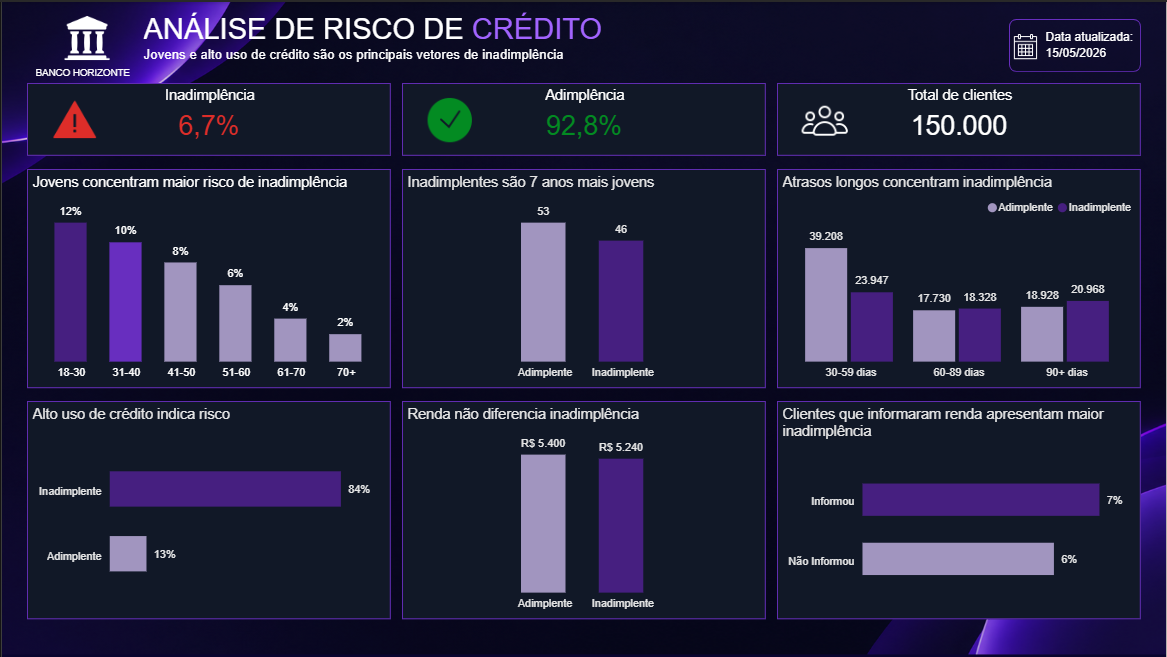

The dashboard page shown, as its layout file describes it:
{"tool":"powerbi","page":{"name":"Página 1","canvas":[1280,720],"ordinal":0},"visuals":[{"type":"image","box":[23.1,12.1,141.2,55.2],"z":0,"group":"g1"},{"type":"shape","box":[1107.4,18.7,145.2,58.3],"z":0},{"type":"textbox","box":[31.9,63.1,134.9,28.8],"z":1000,"group":"g1"},{"type":"clusteredBarChart","title":"Alto uso de crédito indica risco","fields":{"Category":["banco_horizonte_limpo.Status_Pagamento"],"Y":["Median(banco_horizonte_limpo.RevolvingUtilizationOfUnsecuredLines)"]},"box":[27.5,438.8,400,240],"z":1000},{"type":"clusteredBarChart","title":"Clientes que informaram renda apresentam maior inadimplência","fields":{"Category":["banco_horizonte_limpo.Renda_Informada"],"Y":["banco_horizonte_limpo.Taxa Inadimplência %"]},"box":[852.2,438.8,400,240],"z":2000},{"type":"clusteredColumnChart","title":"Atrasos longos concentram inadimplência","fields":{"Category":["Atrasos_Detalhado.Tipo_Atraso"],"Series":["Atrasos_Detalhado.Status"],"Y":["Sum(Atrasos_Detalhado.Qtd_Atraso)"]},"box":[852.2,183.6,400.3,240.8],"z":3000},{"type":"clusteredColumnChart","title":"Renda não diferencia inadimplência","fields":{"Category":["banco_horizonte_limpo.Status_Pagamento"],"Y":["Median(banco_horizonte_limpo.MonthlyIncome)"]},"box":[439.9,438.8,400.3,239.7],"z":4000},{"type":"cardVisual","title":"Total de clientes","fields":{"Data":["CountNonNull(banco_horizonte_limpo.RevolvingUtilizationOfUnsecuredLines)"]},"box":[852.2,89.1,400.3,80.3],"z":5000},{"type":"cardVisual","title":"Adimplência","fields":{"Data":["banco_horizonte_limpo.Taxa Adimplência %"]},"box":[439.9,89.1,400,80.3],"z":6000},{"type":"clusteredColumnChart","title":"Inadimplentes são 7 anos mais jovens","fields":{"Category":["banco_horizonte_limpo.Status_Pagamento"],"Y":["Avg(banco_horizonte_limpo.age)"]},"box":[439.9,183.6,400.3,240.8],"z":7000},{"type":"group","id":"g1","title":"Grupo 1","box":[23.1,12.1,143,79.2],"z":8000},{"type":"cardVisual","title":"Inadimplência","fields":{"Data":["banco_horizonte_limpo.Taxa Inadimplência %"]},"box":[27.5,89.1,400,80.3],"z":9000},{"type":"textbox","box":[151.2,6.5,629.7,84.8],"z":10000},{"type":"clusteredColumnChart","title":"Jovens concentram maior risco de inadimplência","fields":{"Category":["banco_horizonte_limpo.Faixa_Etaria"],"Y":["banco_horizonte_limpo.Taxa Inadimplência %"]},"box":[27.5,183.6,400,240.8],"z":11000},{"type":"image","box":[439.9,103.4,105.6,52.8],"z":12000},{"type":"image","box":[1108.5,35.2,34.1,28.6],"z":13000},{"type":"image","box":[852.2,105.6,105.6,50.6],"z":14000},{"type":"textbox","box":[1142.5,24.2,110,48.4],"z":15000},{"type":"image","box":[27.5,105.6,104.5,47.3],"z":16000}]}

Visuals, with their boxes in screenshot pixels (x1, y1, x2, y2), scaled from the page's 1280x720 canvas onto the 1167x657 screenshot:
image: pyautogui.locateOnScreen(21, 11, 150, 61)
shape: pyautogui.locateOnScreen(1010, 17, 1142, 70)
textbox: pyautogui.locateOnScreen(29, 58, 152, 84)
"Alto uso de crédito indica risco" clusteredBarChart: pyautogui.locateOnScreen(25, 400, 390, 619)
"Clientes que informaram renda apresentam maior inadimplência" clusteredBarChart: pyautogui.locateOnScreen(777, 400, 1142, 619)
"Atrasos longos concentram inadimplência" clusteredColumnChart: pyautogui.locateOnScreen(777, 168, 1142, 387)
"Renda não diferencia inadimplência" clusteredColumnChart: pyautogui.locateOnScreen(401, 400, 766, 619)
"Total de clientes" cardVisual: pyautogui.locateOnScreen(777, 81, 1142, 155)
"Adimplência" cardVisual: pyautogui.locateOnScreen(401, 81, 766, 155)
"Inadimplentes são 7 anos mais jovens" clusteredColumnChart: pyautogui.locateOnScreen(401, 168, 766, 387)
"Grupo 1" group: pyautogui.locateOnScreen(21, 11, 151, 83)
"Inadimplência" cardVisual: pyautogui.locateOnScreen(25, 81, 390, 155)
textbox: pyautogui.locateOnScreen(138, 6, 712, 83)
"Jovens concentram maior risco de inadimplência" clusteredColumnChart: pyautogui.locateOnScreen(25, 168, 390, 387)
image: pyautogui.locateOnScreen(401, 94, 497, 143)
image: pyautogui.locateOnScreen(1011, 32, 1042, 58)
image: pyautogui.locateOnScreen(777, 96, 873, 143)
textbox: pyautogui.locateOnScreen(1042, 22, 1142, 66)
image: pyautogui.locateOnScreen(25, 96, 120, 140)
